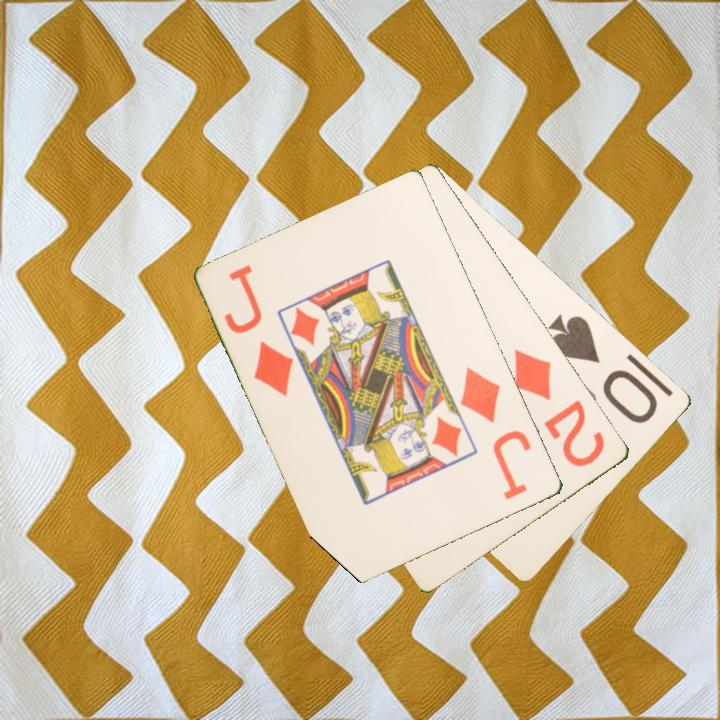10s: (545, 310, 662, 427)
2d: (511, 345, 609, 470)
Jd: (457, 363, 535, 503), (221, 261, 297, 401)
